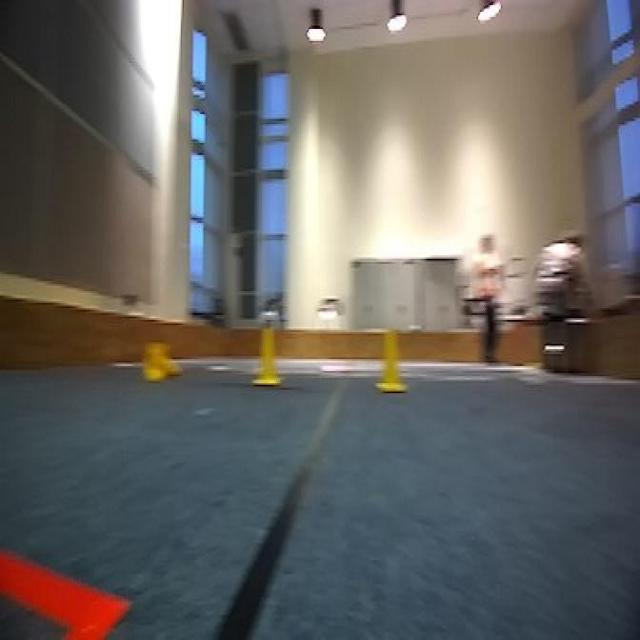frc_cone: (252, 322, 282, 388), (143, 337, 185, 383), (376, 330, 405, 395)
